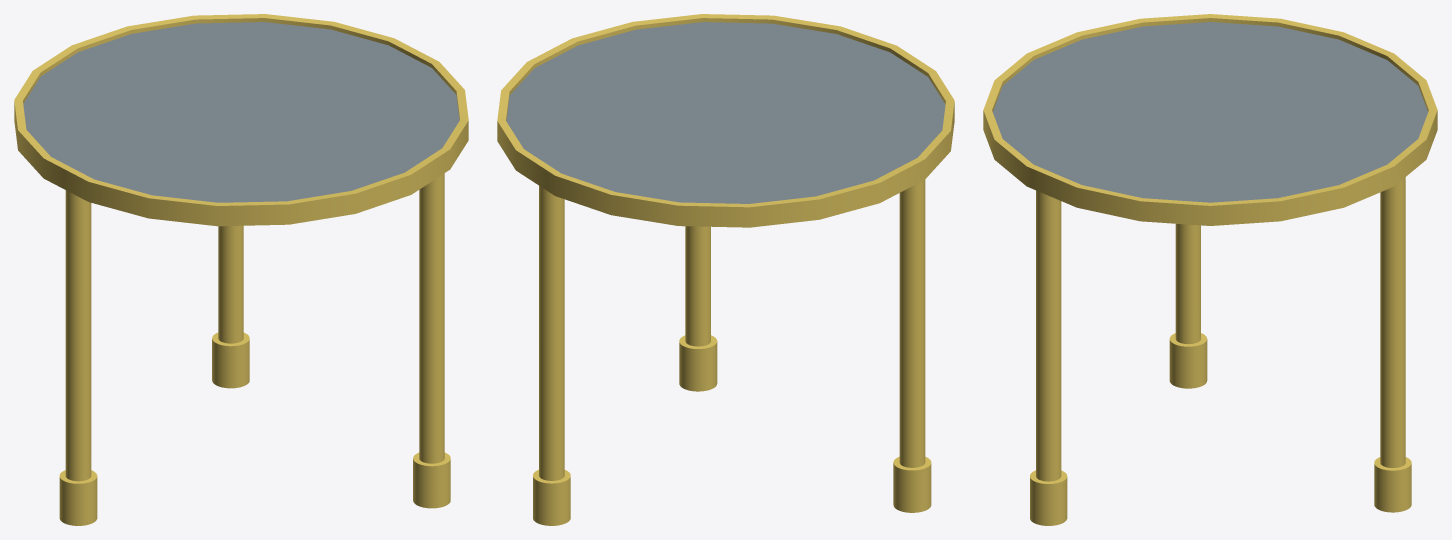
The model's file is side table.fbx.
3 renders of one model, left to right at view 1: azimuth 30°, elevation 25°; view 2: azimuth 150°, elevation 25°; view 3: azimuth 270°, elevation 25°, orthographic.
Visible parts, largest first — view 1: Cylinder.002; view 2: Cylinder.002; view 3: Cylinder.002.
Boxes of the visible parts, <box> form: Cylinder.002: <box>14,14,468,525</box>; Cylinder.002: <box>497,14,954,525</box>; Cylinder.002: <box>983,14,1437,525</box>.
Bounding box in the file's own units: 52.45 × 45.26 × 52.45.
